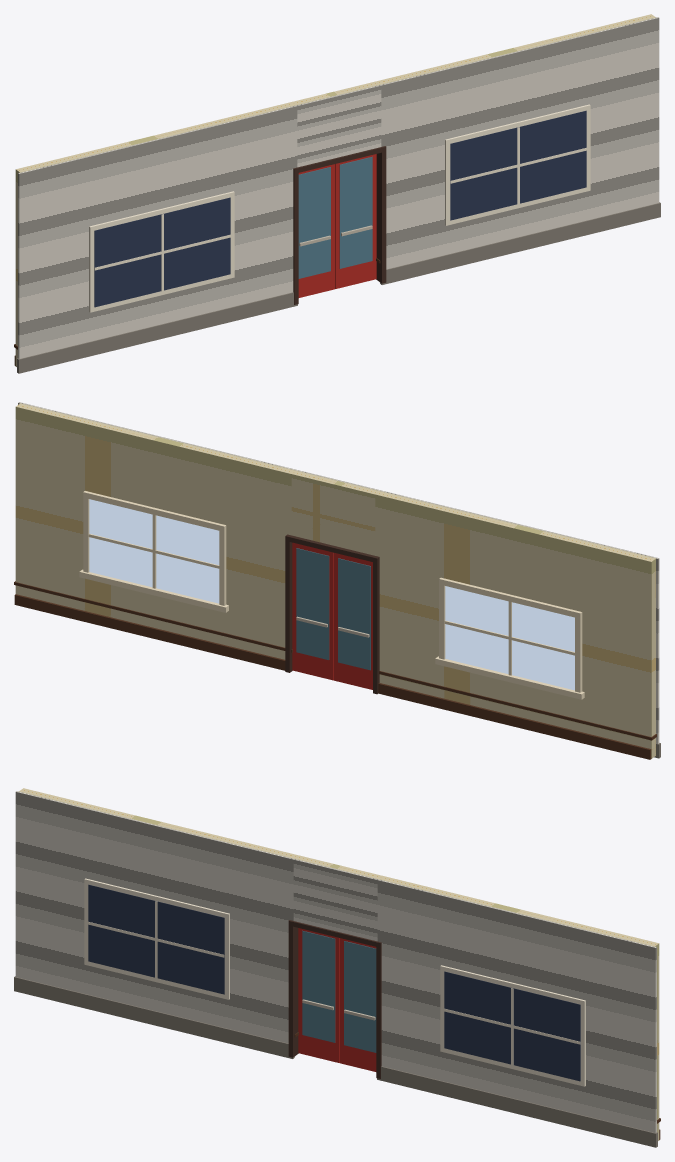
Rendered from front.glb.
3 views of the same model, one above another, from view 1: azimuth 30°, elevation 25°; view 2: azimuth 150°, elevation 25°; view 3: azimuth 330°, elevation 25° (orthographic).
Parts seen in each view (by area): view 1: Box6, Box8, Box23, Box34, Box10, Box7, Box9, Box19, Box15, Box22, Box33, Box1 (+6 smaller); view 2: Box1, Box3, Box41, Box30, Box5, Box19, Box15, Box2, Box4, Box44, Box18, Box14 (+14 smaller); view 3: Box8, Box6, Box34, Box23, Box10, Box9, Box7, Box15, Box19, Box33, Box22, Box3 (+6 smaller).
Boxes of the visible parts, x1,y1,x2,y2 form: Box6: (18, 105, 297, 358); Box8: (380, 17, 659, 284); Box23: (94, 197, 230, 307); Box34: (450, 110, 586, 220); Box10: (296, 85, 381, 167); Box7: (17, 292, 297, 373); Box9: (381, 202, 660, 284); Box19: (339, 156, 372, 268); Box15: (298, 167, 330, 278); Box22: (89, 191, 234, 312); Box33: (445, 104, 590, 225); Box1: (15, 102, 295, 366); Box1: (375, 491, 655, 758); Box3: (15, 403, 295, 659); Box41: (89, 499, 219, 603); Box30: (445, 586, 574, 690); Box5: (291, 471, 379, 555); Box19: (296, 548, 329, 659); Box15: (338, 558, 370, 670); Box2: (378, 683, 651, 759); Box4: (14, 594, 285, 670); Box44: (379, 674, 655, 757); Box18: (292, 542, 333, 680); Box14: (334, 553, 372, 689); Box8: (377, 879, 656, 1132); Box6: (15, 791, 294, 1058); Box34: (444, 971, 580, 1081); Box23: (88, 884, 224, 994); Box10: (293, 859, 378, 941); Box9: (377, 1066, 657, 1147); Box7: (14, 976, 293, 1058); Box15: (302, 930, 335, 1042); Box19: (344, 941, 376, 1052); Box33: (440, 965, 585, 1086); Box22: (84, 878, 229, 999); Box3: (379, 876, 659, 1140).
Bounding box in the file's own units: 12.27 × 3.64 × 0.338.
Materials: 12 (2 with a texture image).
